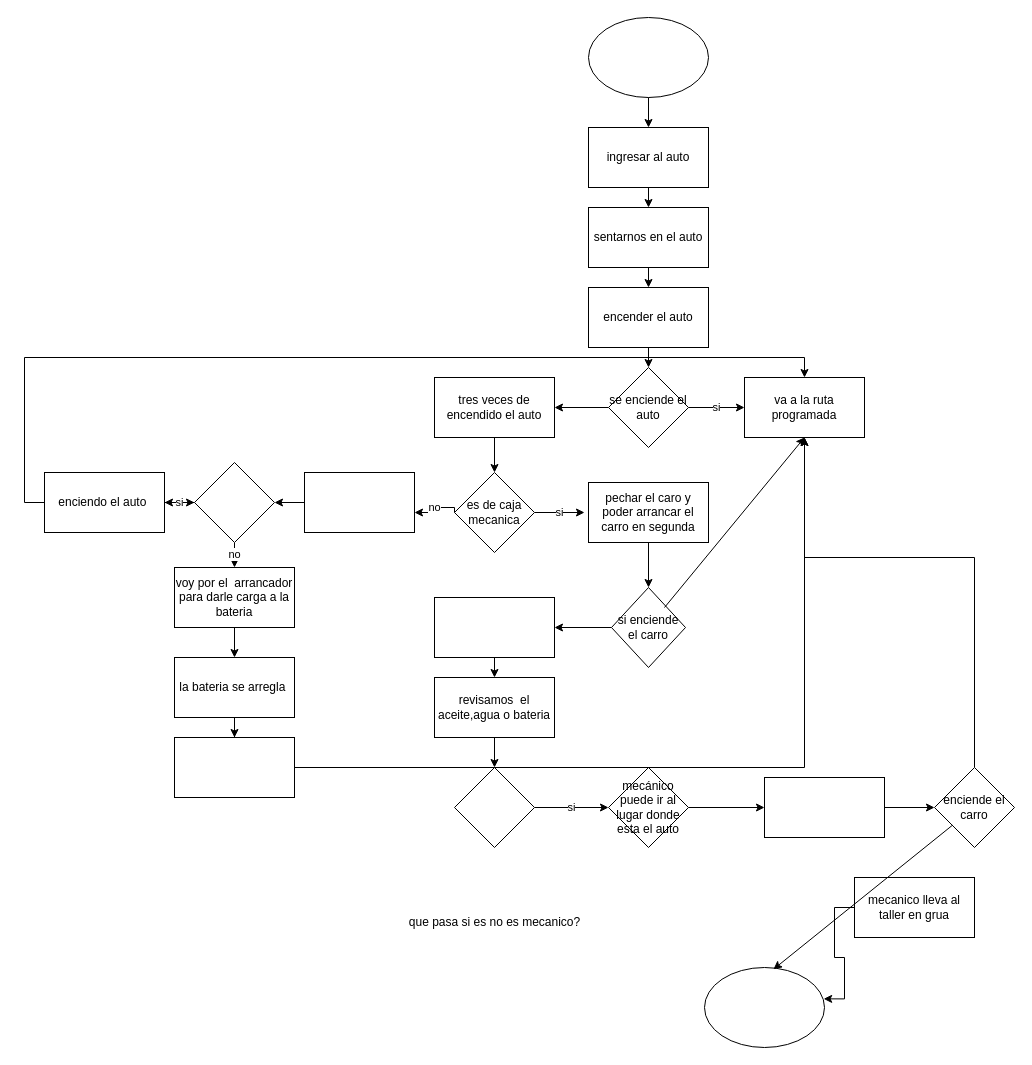
Image size: 1032x1065. Some labels were removed from this diagram. Here are the shapes that lost their labels. From the top down, the centre of each, then its label:
point (648, 57): inicio
point (234, 502): veo si la bateria tiene enegia
point (359, 502): abri el capo de auto
point (494, 627): Abrir el capo del auto
point (234, 767): prendo el auto
point (494, 807): Habrá agua?
point (824, 807): mecánico soluciona el problema
point (764, 1007): fin
